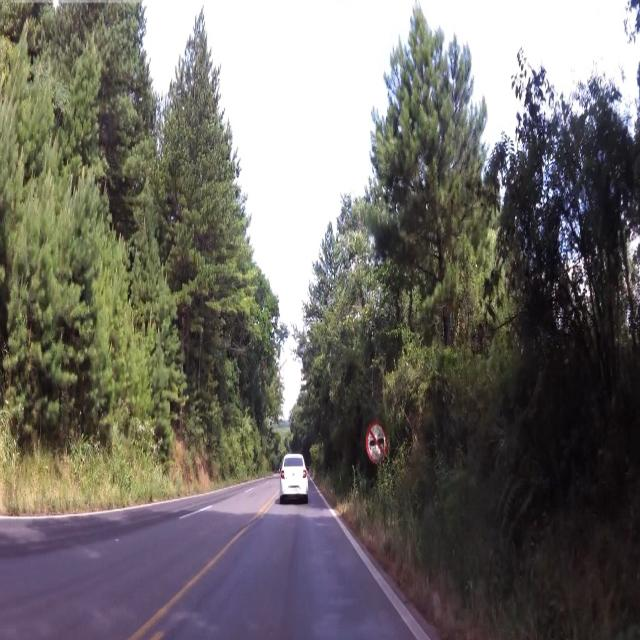R-7: (364, 408, 392, 464)
